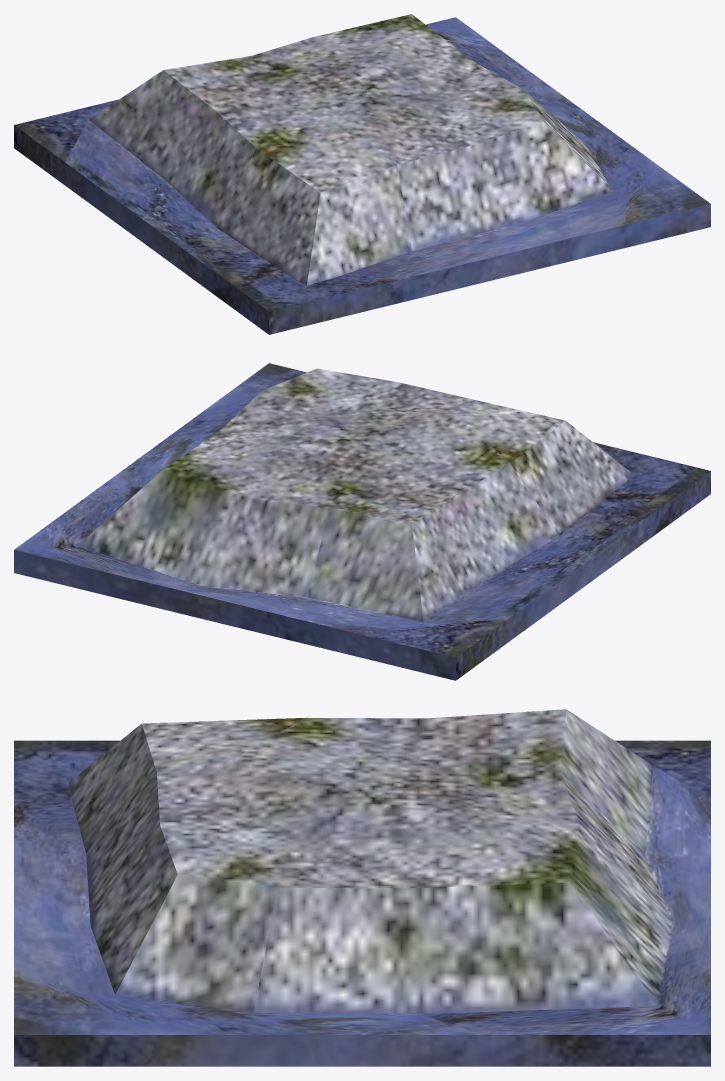
File: WaterWay.glb
3 views of the same model, one above another, from view 1: azimuth 30°, elevation 25°; view 2: azimuth 150°, elevation 25°; view 3: azimuth 270°, elevation 25° (orthographic). The views are drawn at different scales.
Parts seen in each view (by area): view 1: Cube; view 2: Cube; view 3: Cube.
Part boxes in pixels (box(x1,y1,x2,y2)): Cube: box(14, 14, 710, 334); Cube: box(14, 363, 710, 680); Cube: box(14, 709, 710, 1066).
Bounding box in the file's own units: 2 × 0.4083 × 2.
1 material, 1 textured.
